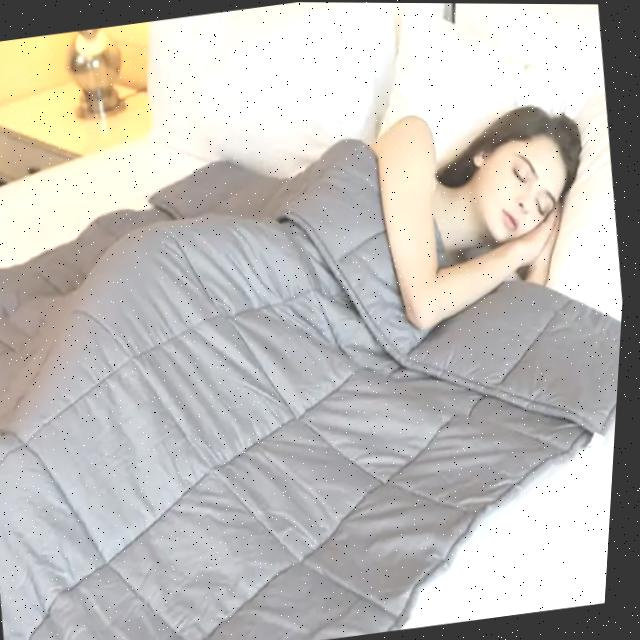sleeping-person: (0, 68, 637, 640)
